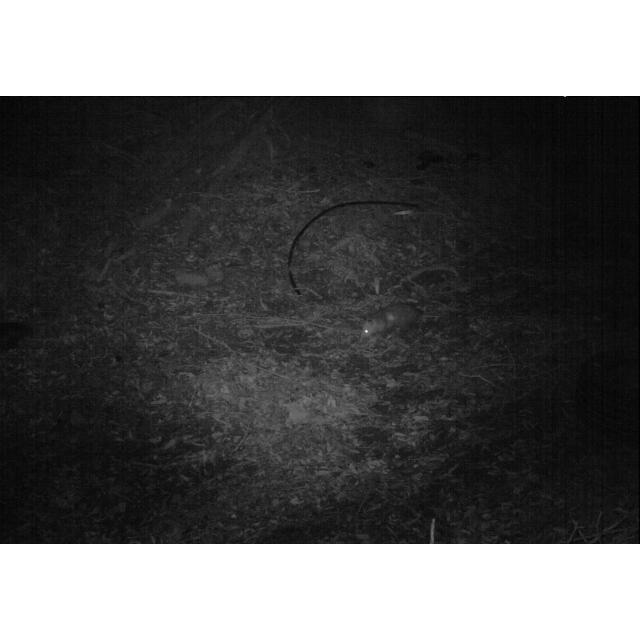animals: (362, 300, 442, 344)
